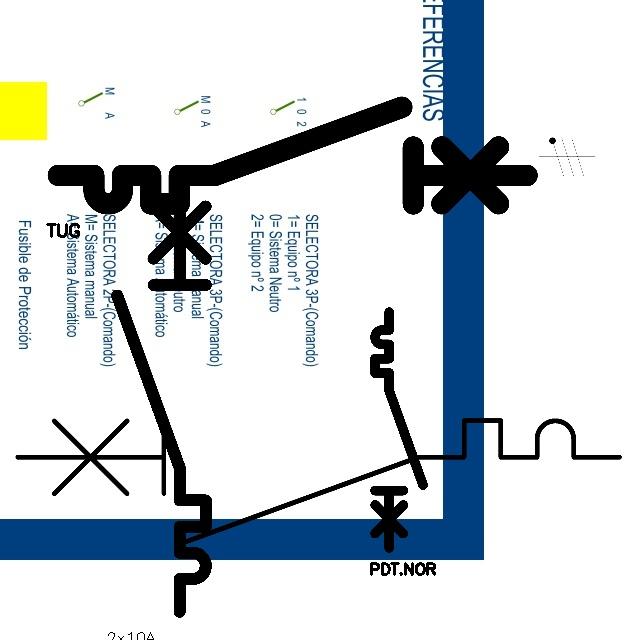interruptor_termomagnetico: (2, 405, 635, 560), (46, 95, 539, 216), (106, 169, 217, 623), (369, 306, 429, 554)
